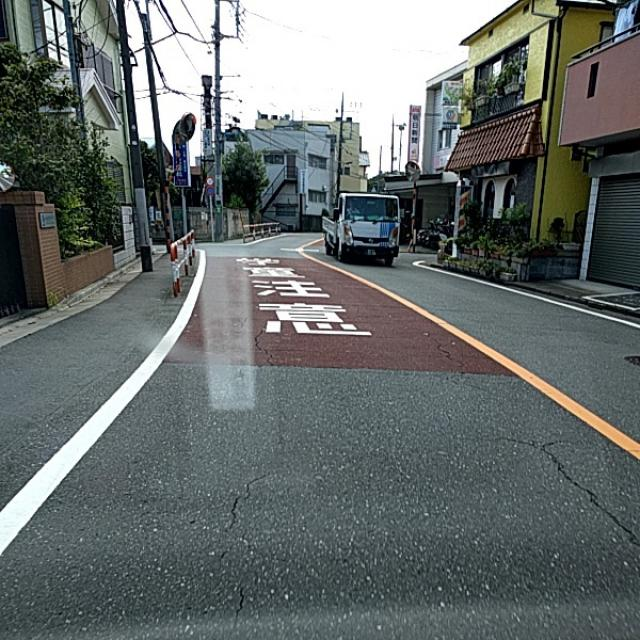pothole: (223, 478, 274, 553)
